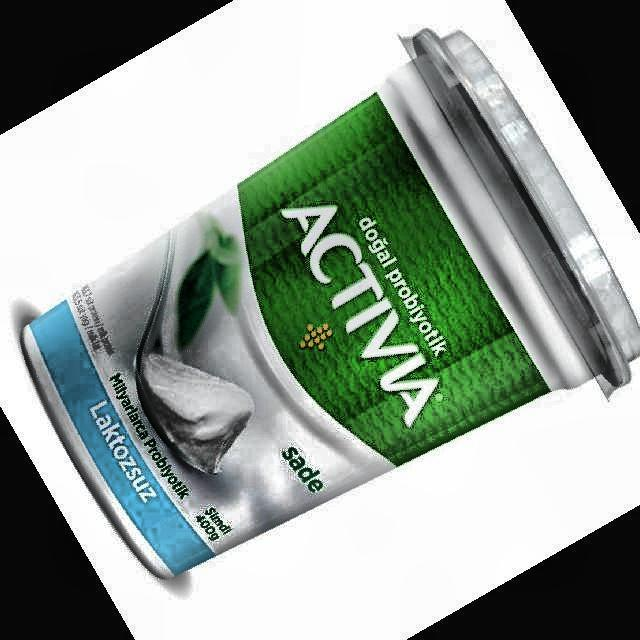plastic: (22, 30, 640, 577)
